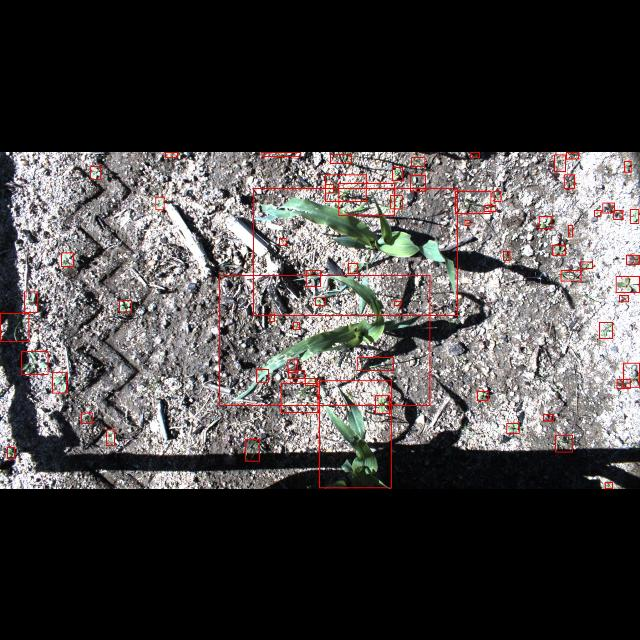crop: (220, 275, 430, 405), (253, 187, 457, 315), (319, 380, 391, 488)
weed: (338, 182, 394, 214), (280, 382, 318, 412), (326, 173, 366, 200), (1, 313, 30, 342), (456, 191, 490, 213), (22, 351, 48, 374), (356, 356, 394, 369), (623, 362, 639, 386), (616, 276, 640, 292), (245, 439, 259, 461), (556, 434, 572, 452), (374, 395, 390, 413), (52, 372, 66, 392), (24, 291, 38, 311), (410, 173, 426, 190), (306, 270, 320, 286), (561, 270, 581, 280), (600, 322, 612, 338), (554, 154, 566, 170), (61, 252, 73, 266), (538, 216, 552, 228), (331, 154, 352, 162), (256, 368, 268, 382), (390, 194, 402, 208), (262, 152, 300, 156), (119, 299, 131, 311), (552, 244, 566, 254), (626, 254, 640, 264), (564, 174, 574, 188), (616, 378, 630, 388), (393, 167, 403, 180), (289, 370, 305, 378), (507, 423, 519, 433), (348, 262, 358, 274), (91, 166, 101, 178), (288, 360, 298, 372), (603, 202, 615, 212), (107, 430, 115, 444), (630, 208, 638, 222), (82, 412, 92, 423), (412, 157, 424, 166), (478, 390, 488, 400), (581, 260, 593, 268), (156, 196, 164, 208), (315, 297, 325, 305), (614, 209, 622, 219), (8, 447, 15, 458), (484, 204, 496, 210), (625, 160, 631, 172), (566, 152, 578, 158), (504, 250, 511, 260), (494, 190, 501, 200), (544, 414, 554, 421), (325, 184, 333, 192), (306, 378, 316, 384), (568, 224, 572, 236), (594, 209, 602, 215), (165, 152, 177, 156), (620, 295, 628, 301), (280, 238, 286, 245), (470, 152, 480, 156), (606, 482, 612, 488), (293, 322, 299, 328), (395, 300, 401, 306), (270, 313, 274, 321), (464, 220, 470, 224)
